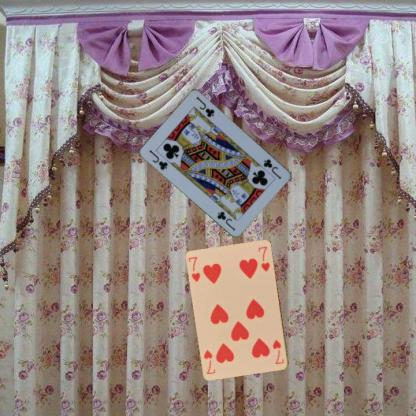7h: (186, 254, 202, 283), (270, 337, 285, 366)
Jc: (147, 147, 169, 171), (261, 157, 283, 180)
